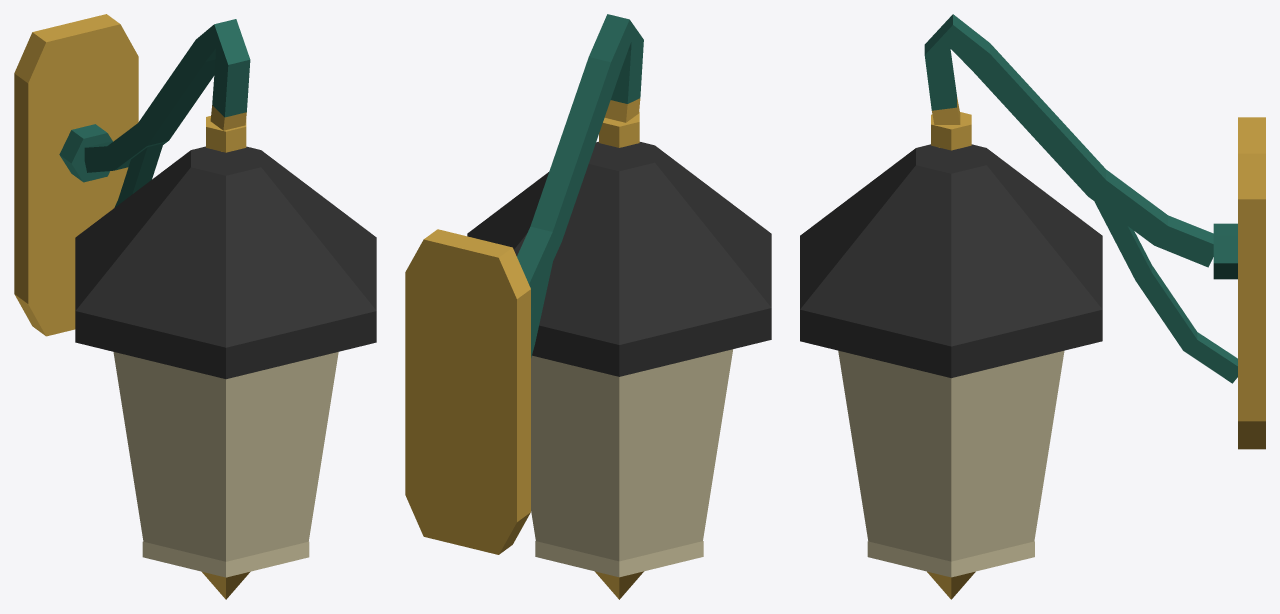
Rendered from duvar_lambasi.glb.
3 renders of one model, left to right at view 1: azimuth 30°, elevation 25°; view 2: azimuth 150°, elevation 25°; view 3: azimuth 270°, elevation 25°, orthographic.
Parts seen in each view (by area): view 1: duvar_lambasi; view 2: duvar_lambasi; view 3: duvar_lambasi.
Part boxes in pixels (bbox=[...]): duvar_lambasi: bbox=[14, 14, 376, 599]; duvar_lambasi: bbox=[405, 14, 771, 599]; duvar_lambasi: bbox=[800, 14, 1265, 599].
Bounding box in the file's own units: 0.3 × 0.5499 × 0.4.
